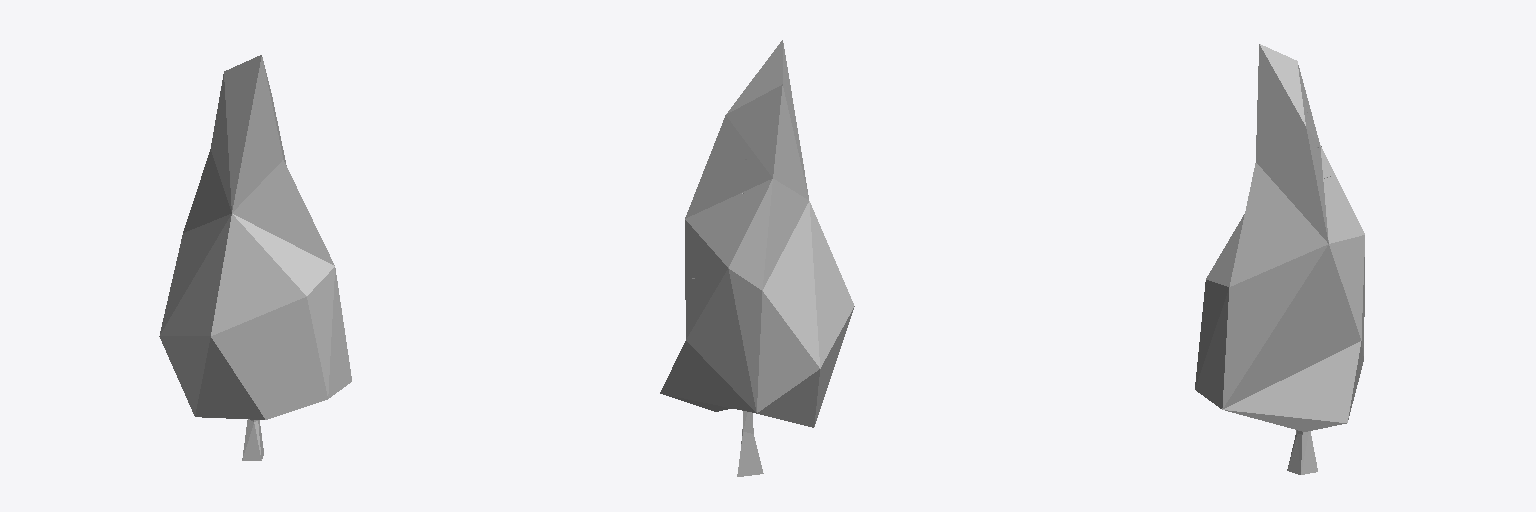
Rendered from Tree001.obj.
The picture shows the model from 3 angles: view 1: azimuth 30°, elevation 25°; view 2: azimuth 150°, elevation 25°; view 3: azimuth 270°, elevation 25°; orthographic projection.
Bounding box in the file's own units: 90.38 × 244 × 89.59.